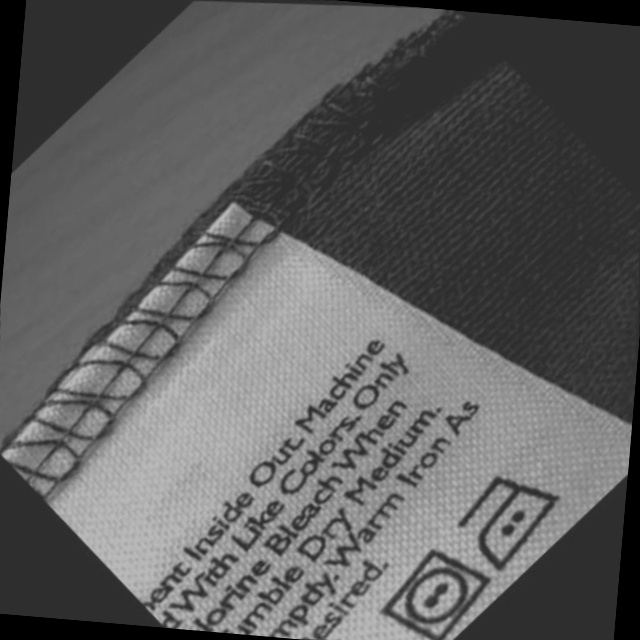iron_medium: (453, 467, 573, 576)
tumble_dry_medium: (377, 543, 500, 640)
